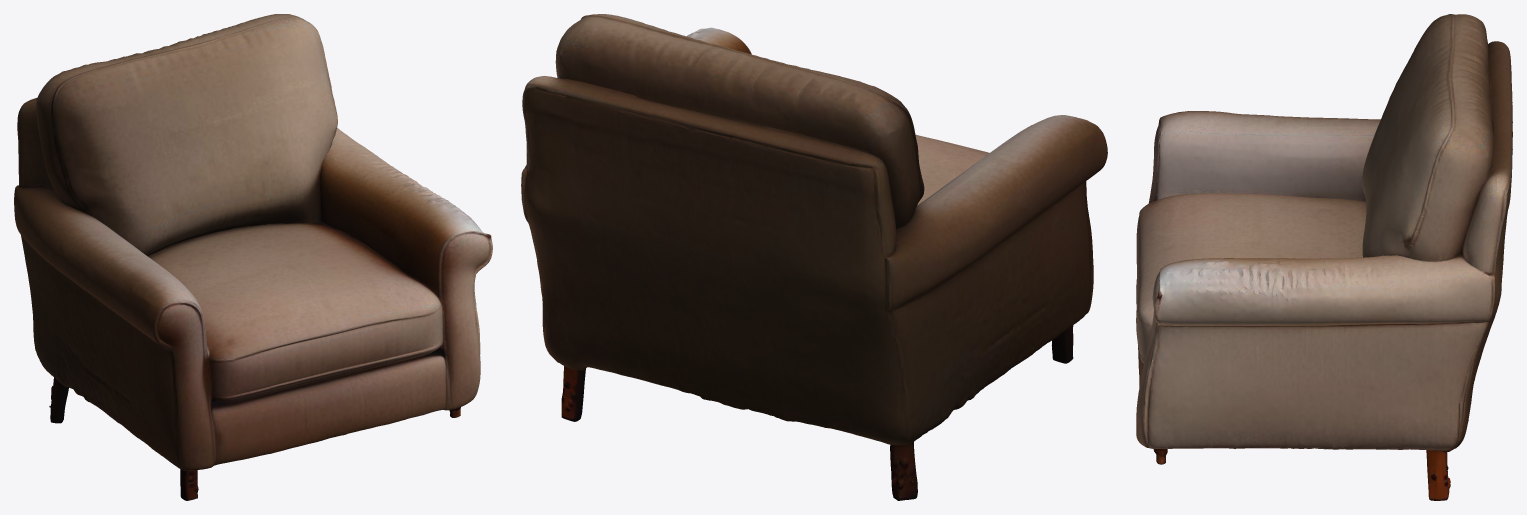
The model's file is leatherchair.fbx.
The picture shows the model from 3 angles, left to right: view 1: azimuth 30°, elevation 25°; view 2: azimuth 150°, elevation 25°; view 3: azimuth 270°, elevation 25°; orthographic projection. The views are drawn at different scales.
Visible parts, largest first — view 1: mesh; view 2: mesh; view 3: mesh.
Part boxes in pixels (x1,y1,x2,y2): mesh: [14, 14, 492, 500]; mesh: [521, 14, 1107, 500]; mesh: [1136, 14, 1512, 500].
Size of the model in its own units: 100 by 96 by 90.61.
1 material, 1 textured.
